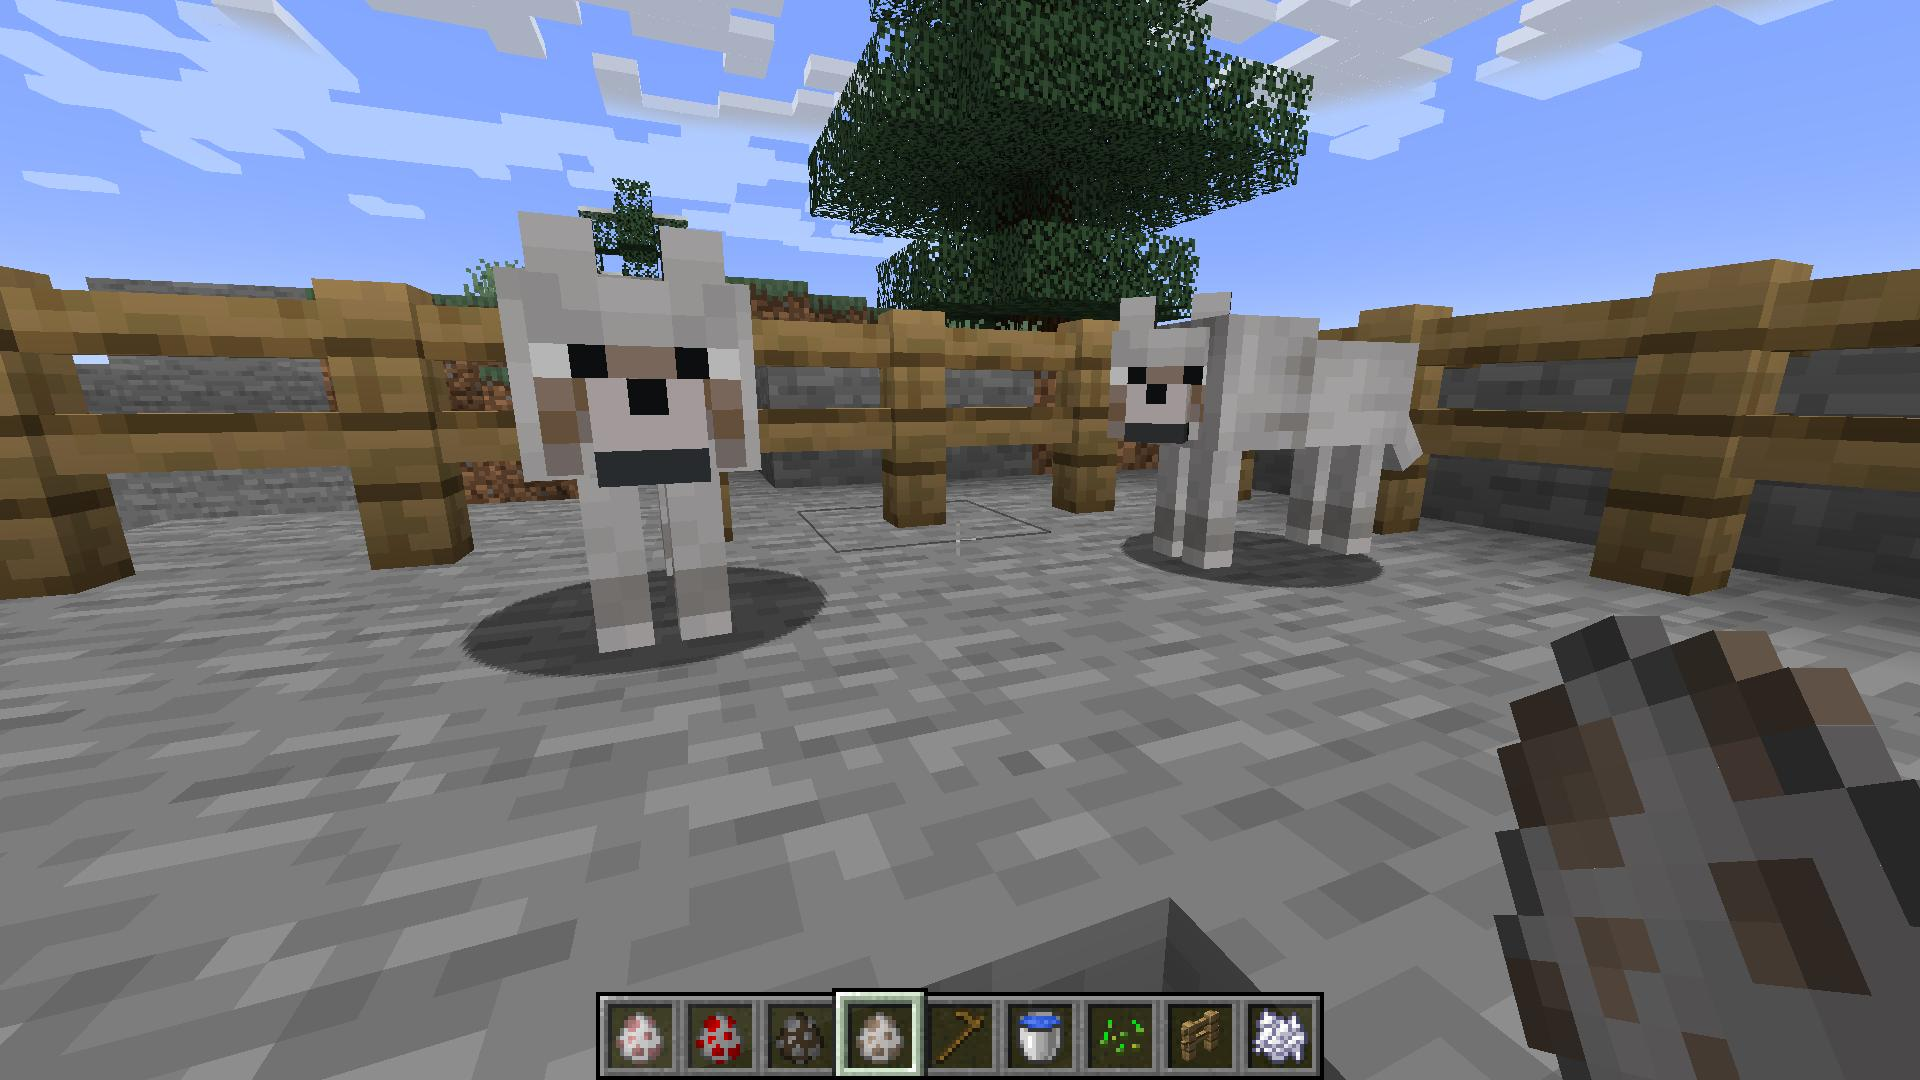wolf: (488, 207, 767, 665), (1106, 287, 1431, 576)
